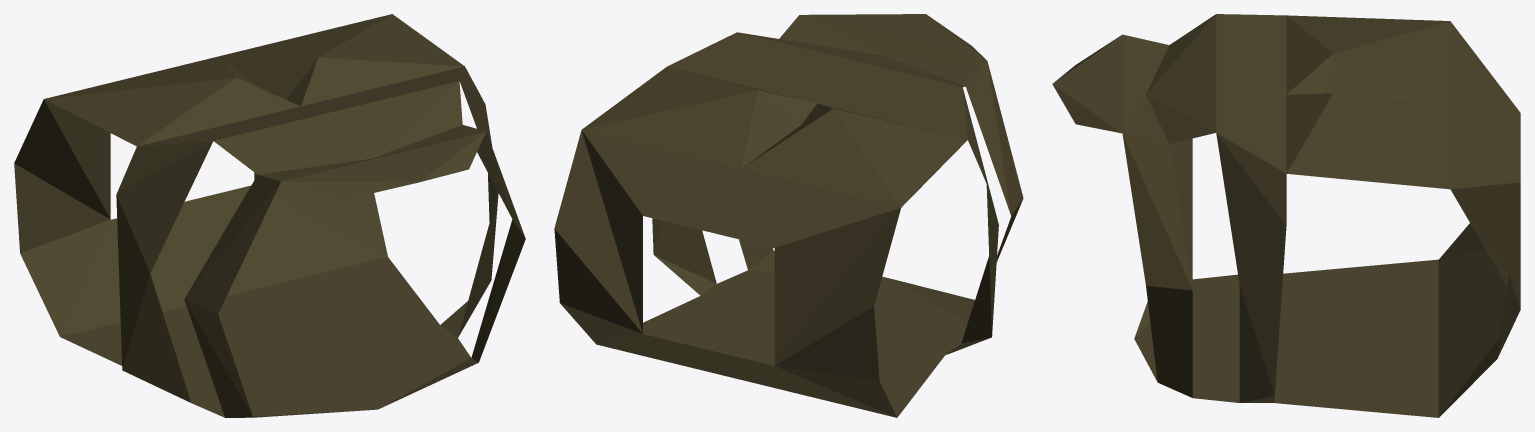
The picture shows the model from 3 angles, left to right: view 1: azimuth 30°, elevation 25°; view 2: azimuth 150°, elevation 25°; view 3: azimuth 270°, elevation 25°; orthographic projection. The views are drawn at different scales.
Visible parts, largest first — view 1: 2540; view 2: 2540; view 3: 2540.
Part boxes in pixels (left/top/right/bottom): 2540: left=14, top=14, right=525, bottom=417; 2540: left=554, top=14, right=1023, bottom=417; 2540: left=1052, top=14, right=1520, bottom=417.
Bounding box in the file's own units: 36 × 25 × 40.
